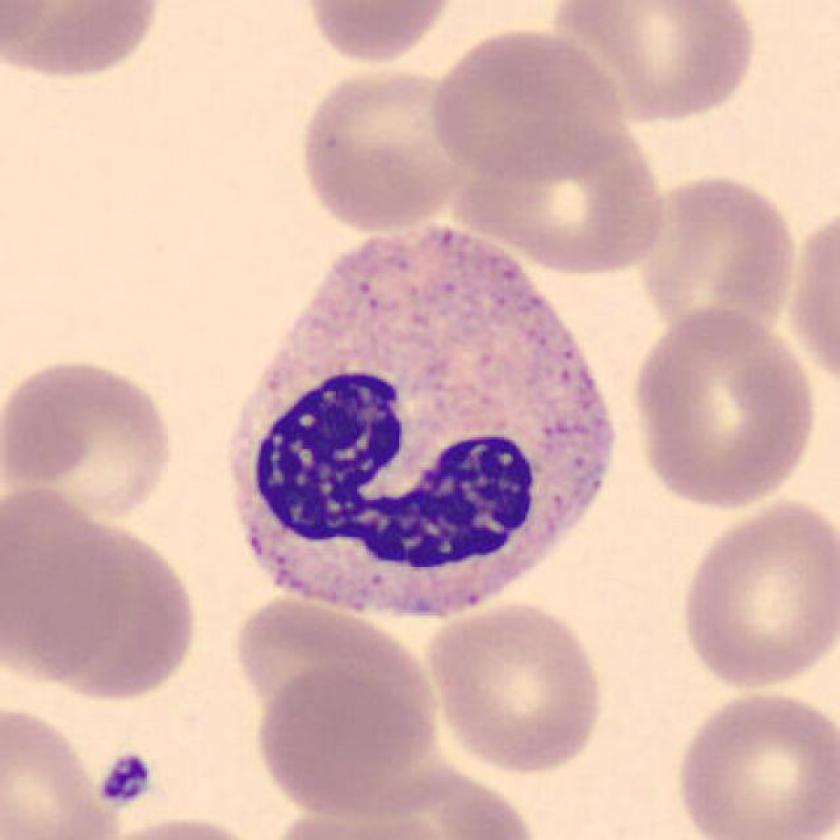neutrophil: (224, 224, 614, 613)
